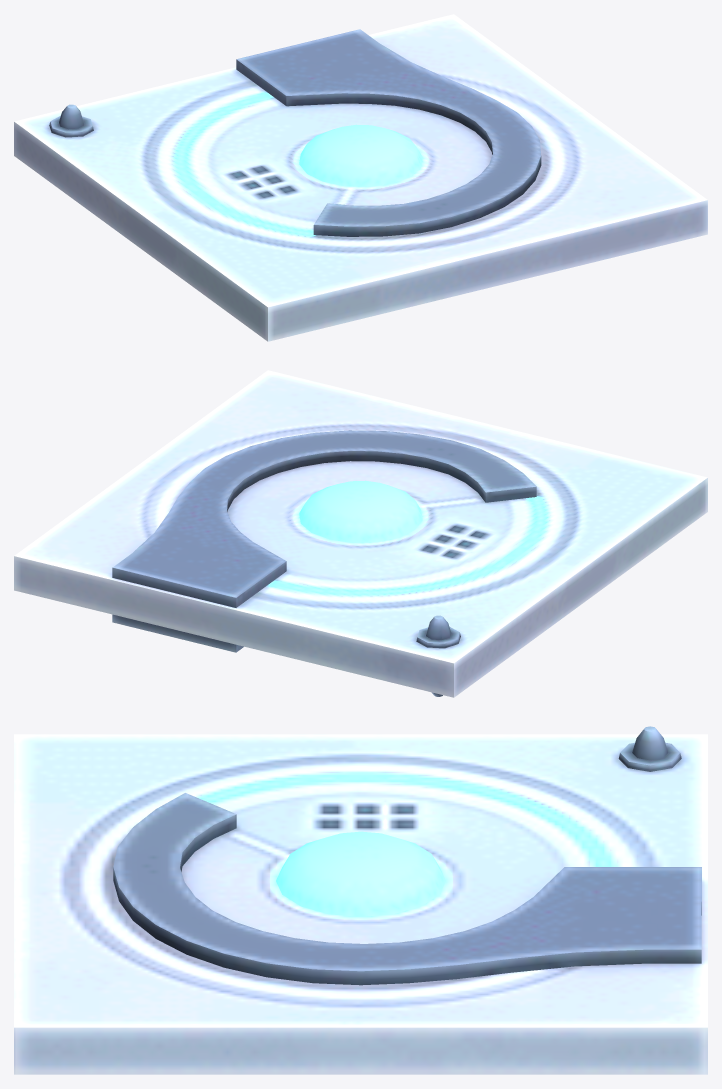
The model's file is obj_floppy.gltf.
3 renders of one model, top to bottom at view 1: azimuth 30°, elevation 25°; view 2: azimuth 150°, elevation 25°; view 3: azimuth 270°, elevation 25°, orthographic. The views are drawn at different scales.
Visible parts, largest first — view 1: obj_floppy; view 2: obj_floppy; view 3: obj_floppy.
Part boxes in pixels (x1,y1,x2,y2): obj_floppy: (14,14,707,341); obj_floppy: (14,370,707,697); obj_floppy: (14,726,707,1074).
Size of what is drawn, in the model's own units: 0.4087 by 0.0707 by 0.4087.
1 material, 1 textured.
